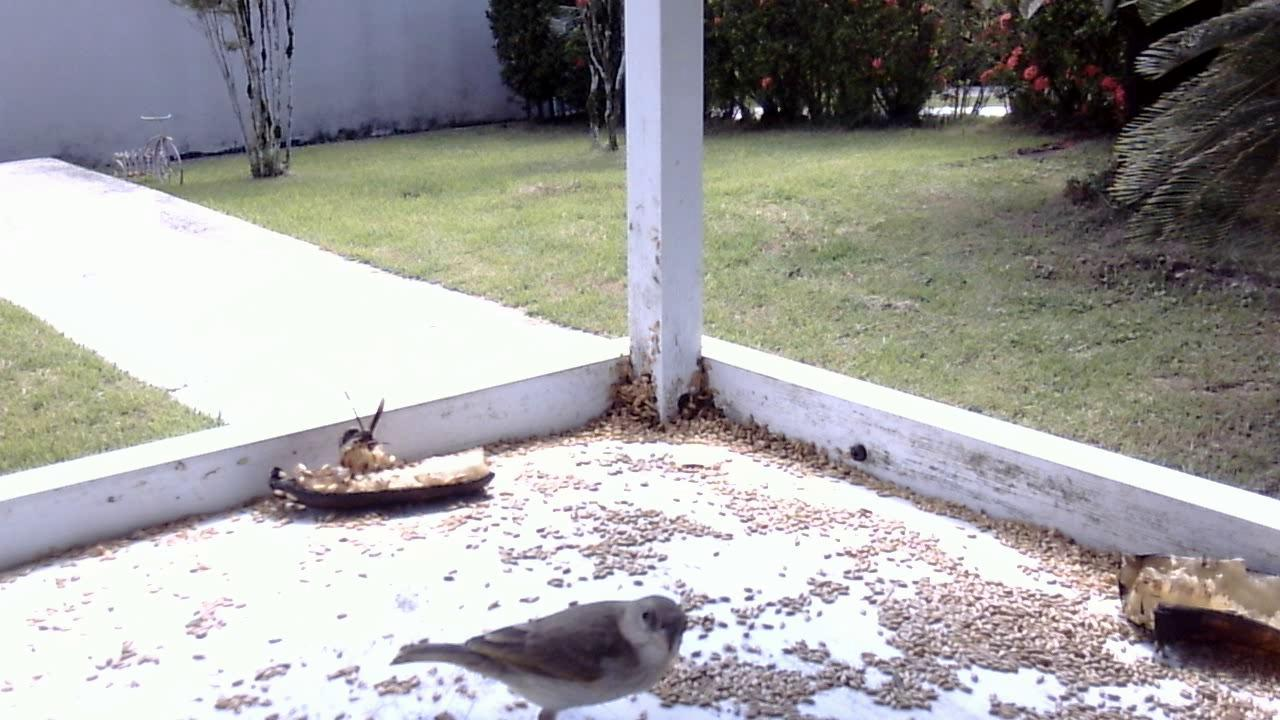canario_do_amazonas: (383, 590, 685, 720)
